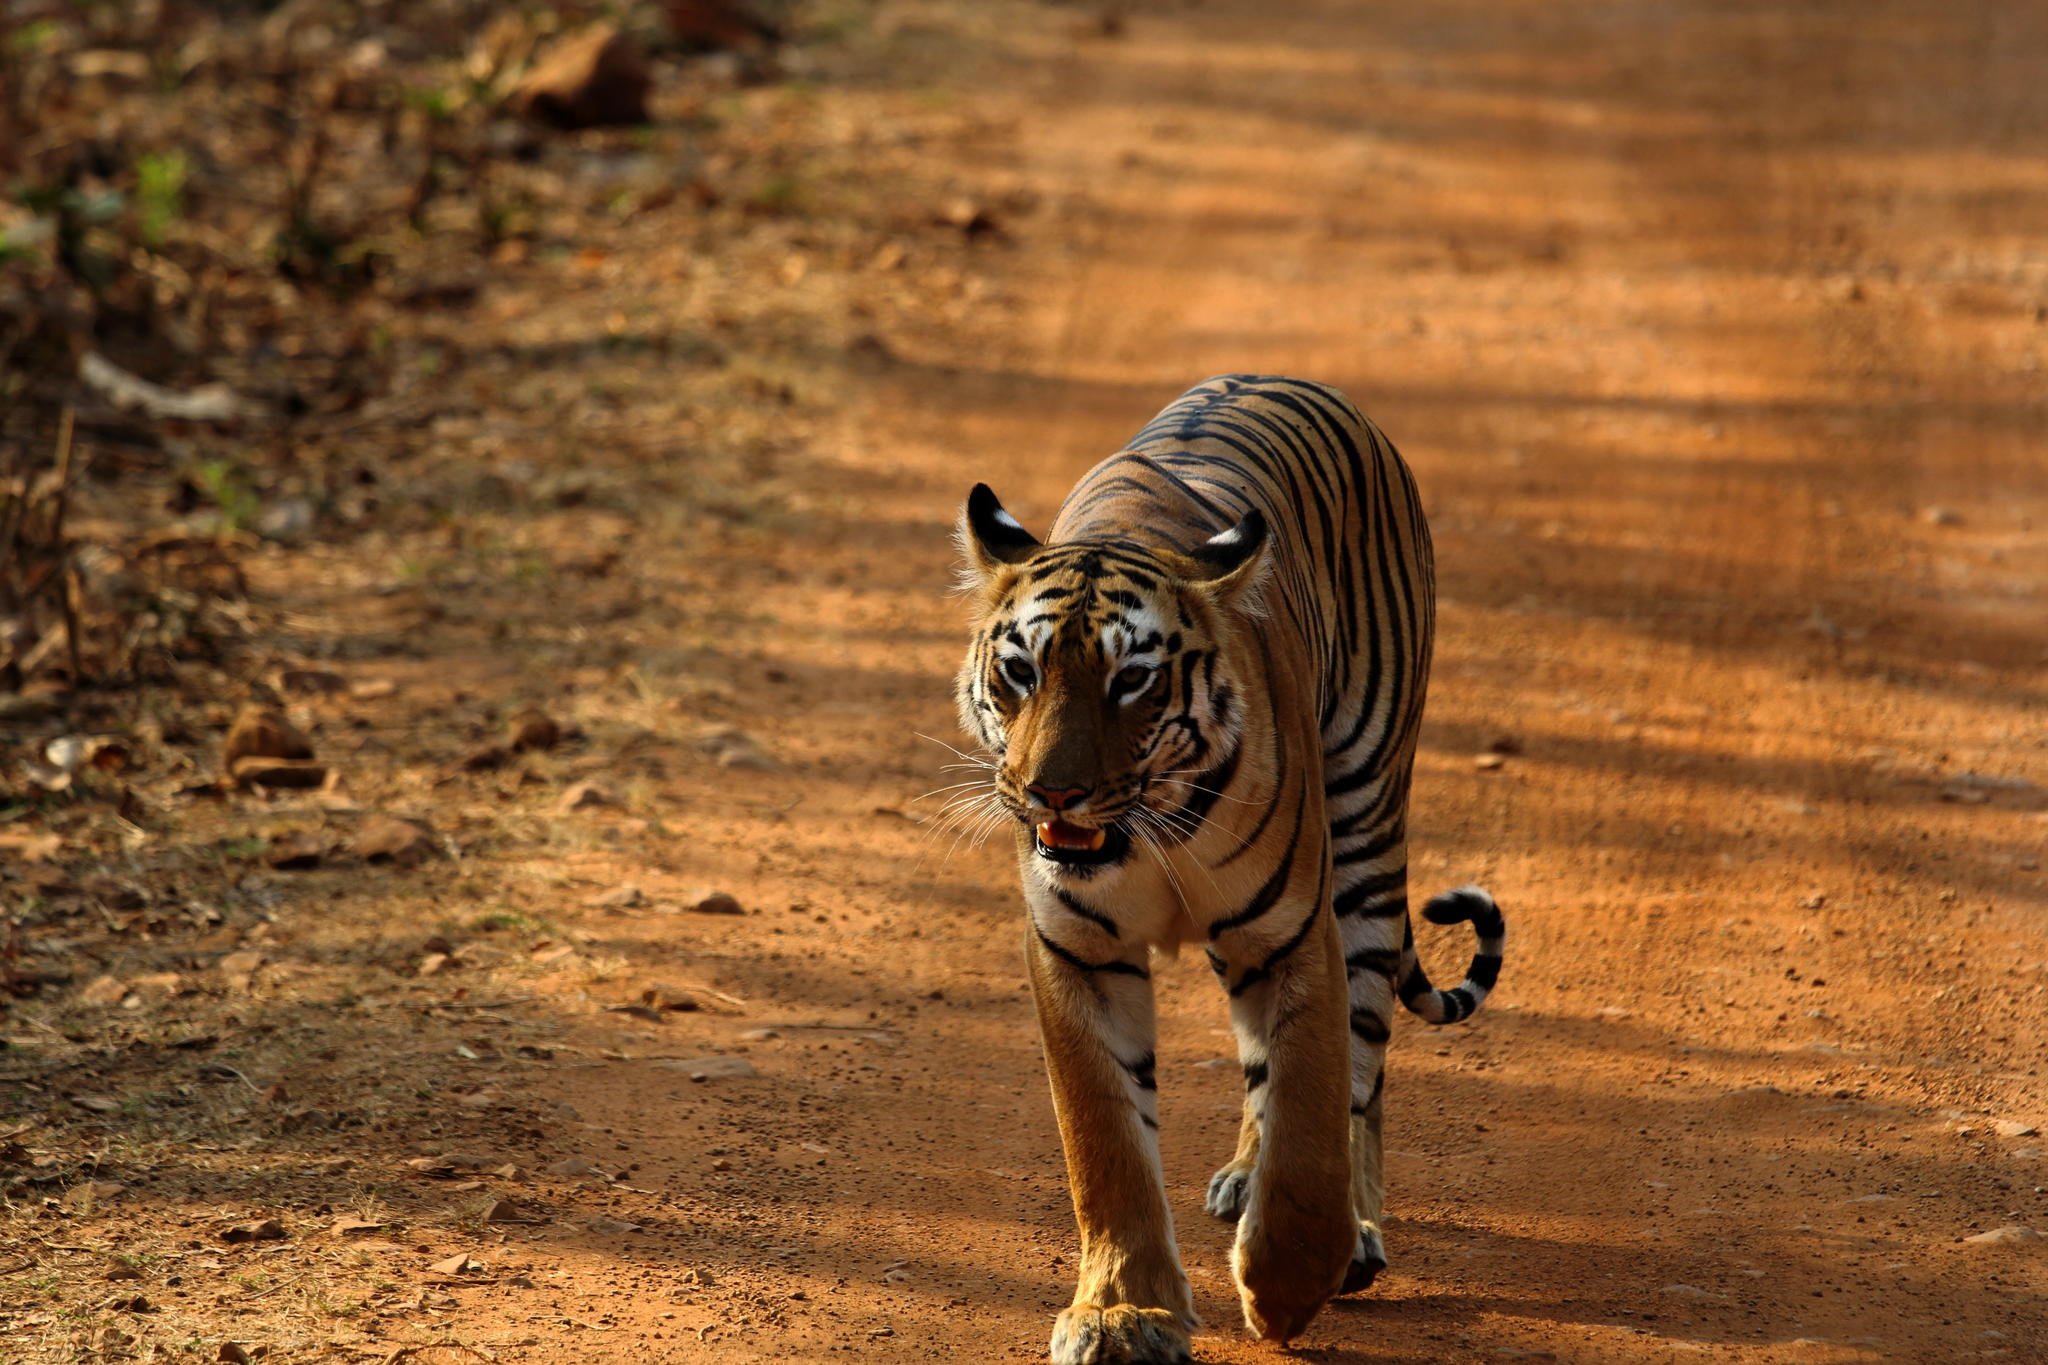tiger: (956, 353, 1524, 1357)
